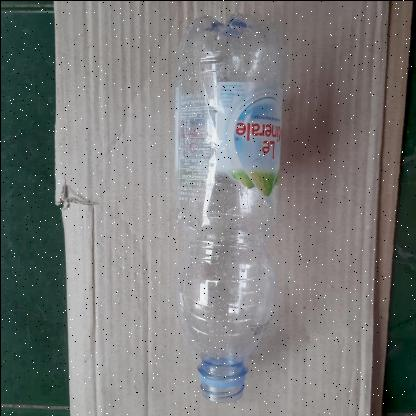Plastic Bottle: (174, 14, 280, 406)
